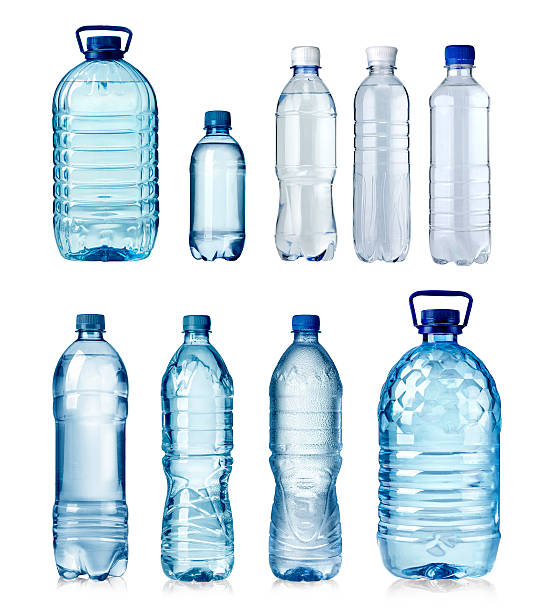HDPE Cap: (409, 288, 473, 333), (75, 23, 132, 60), (290, 44, 321, 66), (202, 109, 233, 126), (290, 314, 321, 330), (445, 44, 476, 59), (75, 313, 104, 329), (182, 314, 212, 329), (367, 46, 397, 59)
HDPE Ring: (444, 58, 476, 65), (369, 60, 395, 65)
PET Bottle: (376, 290, 502, 582), (52, 24, 159, 262), (51, 315, 128, 582), (268, 315, 343, 584), (160, 315, 235, 583), (428, 47, 491, 266), (274, 45, 337, 263), (353, 45, 411, 264), (187, 110, 246, 263)
